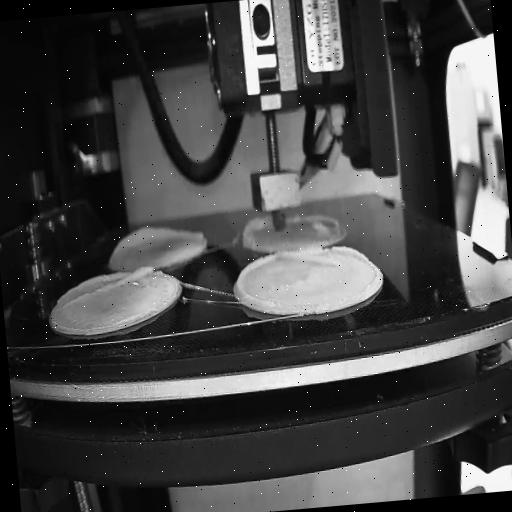over_extrusion: (60, 263, 155, 312), (114, 220, 206, 254), (278, 242, 368, 273), (232, 253, 278, 310), (239, 215, 271, 249)
